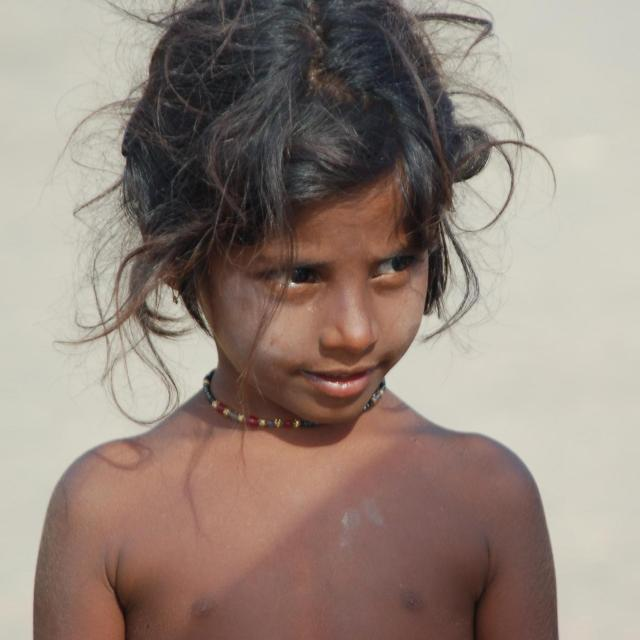no-glass: (256, 253, 414, 290)
